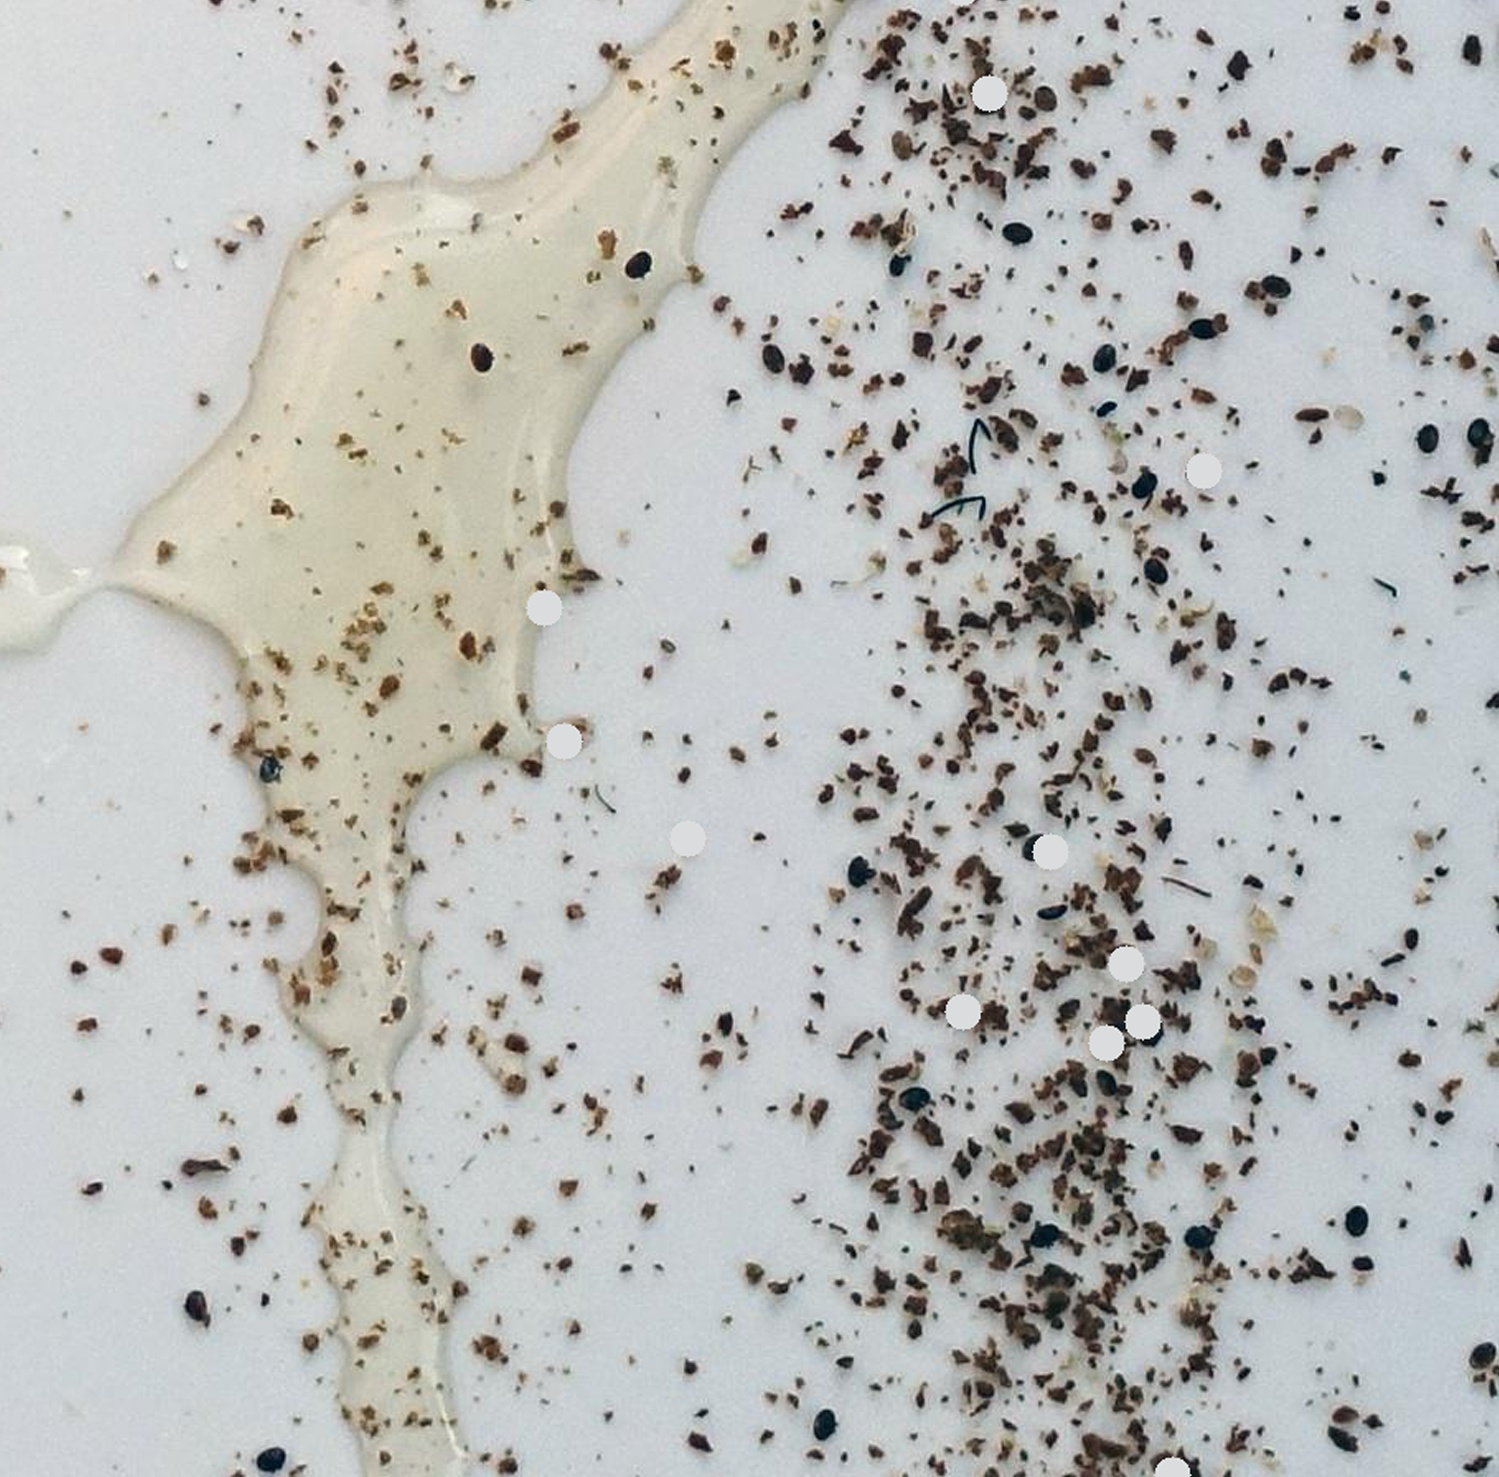Varroa: (249, 749, 294, 793), (893, 1079, 925, 1113), (1030, 1219, 1061, 1248), (1126, 467, 1157, 495), (1094, 1074, 1124, 1102), (1192, 310, 1222, 337), (1034, 85, 1061, 114), (1260, 275, 1288, 302), (1090, 342, 1117, 371), (1342, 1206, 1370, 1234), (1019, 826, 1044, 856), (846, 858, 873, 885), (1186, 1224, 1215, 1250), (889, 133, 916, 158), (1458, 39, 1487, 64), (810, 1412, 836, 1438), (624, 250, 649, 276), (258, 1447, 285, 1472), (1465, 421, 1490, 448), (762, 344, 785, 371), (1414, 423, 1438, 448), (469, 344, 492, 369), (1005, 216, 1028, 242), (1145, 553, 1168, 578), (187, 1294, 208, 1316), (1469, 1343, 1491, 1363)
